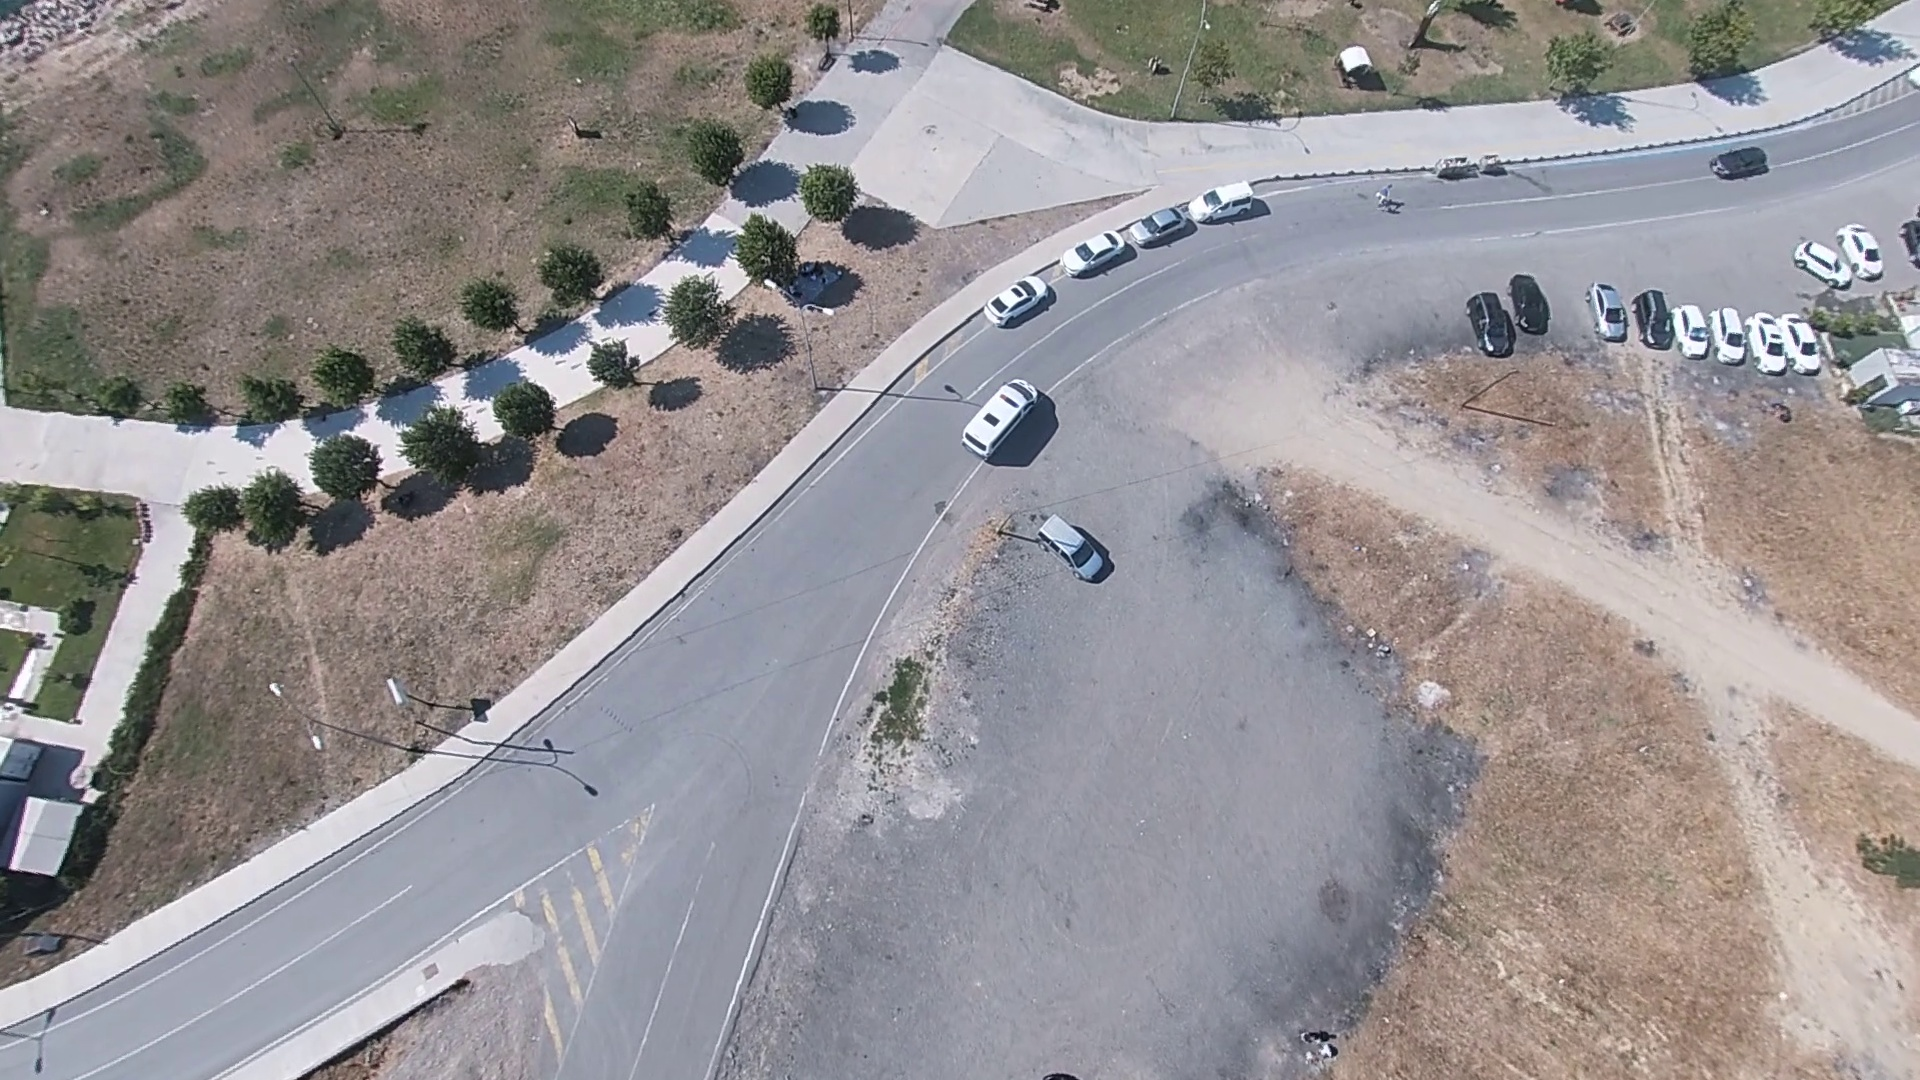arac: (964, 373, 1044, 458), (1035, 510, 1118, 582), (985, 268, 1063, 328), (1469, 284, 1515, 353), (1515, 272, 1553, 334)
